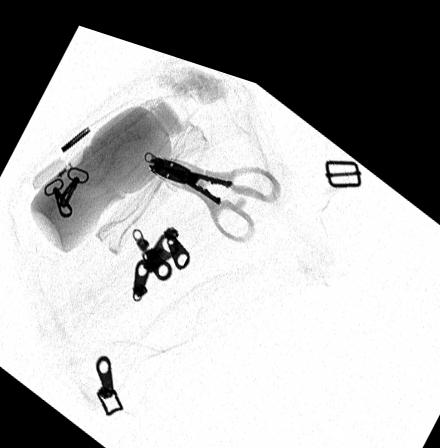Scissors: (146, 141, 284, 230)
